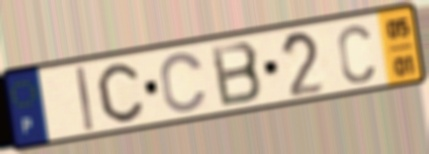2: (279, 29, 326, 99)
B: (207, 39, 265, 110)
C: (158, 50, 210, 115), (95, 60, 146, 124), (335, 22, 377, 87)
I: (73, 63, 97, 133)
